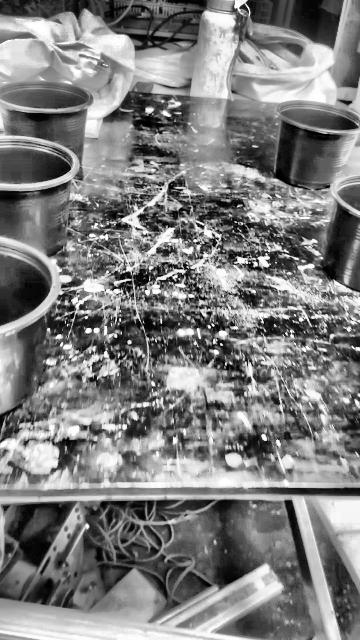pot: (0, 238, 60, 415), (0, 135, 79, 255), (274, 100, 360, 189), (0, 81, 93, 163), (323, 175, 359, 291)
